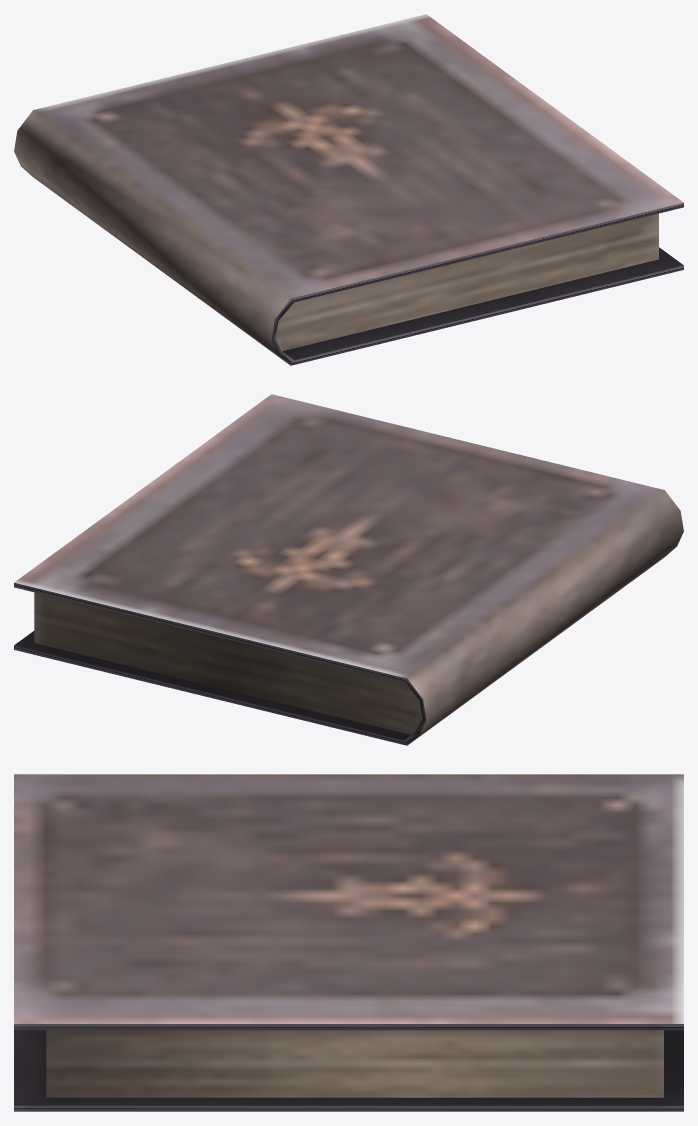
File: Book2.fbx
3 views of the same model, one above another, from view 1: azimuth 30°, elevation 25°; view 2: azimuth 150°, elevation 25°; view 3: azimuth 270°, elevation 25° (orthographic). The views are drawn at different scales.
Parts seen in each view (by area): view 1: Book Modulo 02; view 2: Book Modulo 02; view 3: Book Modulo 02.
Part boxes in pixels (x1,y1,x2,y2): Book Modulo 02: (14, 14, 683, 365); Book Modulo 02: (14, 394, 683, 745); Book Modulo 02: (14, 774, 683, 1111).
Bounding box in the file's own units: 125 × 19.47 × 135.
